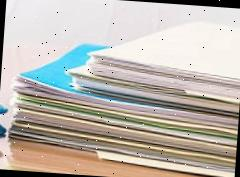paper: (3, 7, 240, 177), (82, 12, 240, 104), (0, 101, 8, 138)
